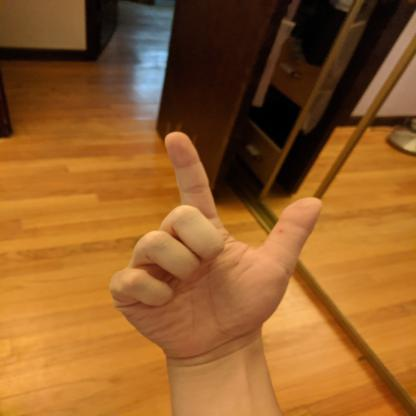L: (102, 127, 328, 358)
